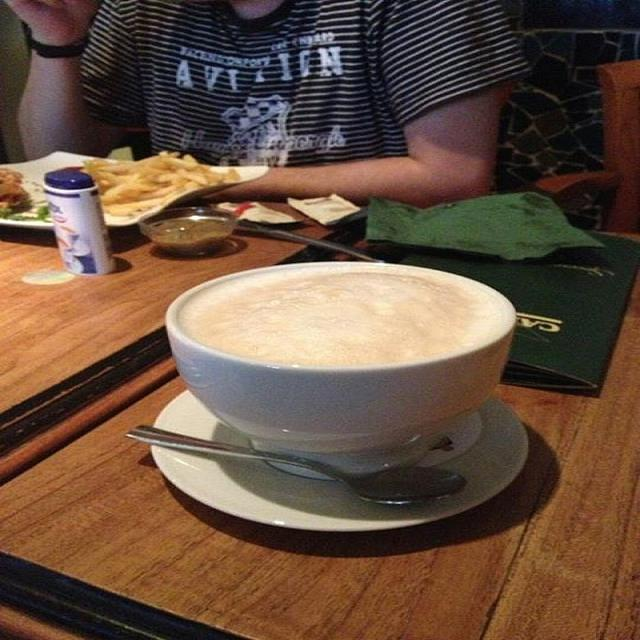chair: (538, 60, 639, 233)
dining table: (0, 155, 640, 627)
